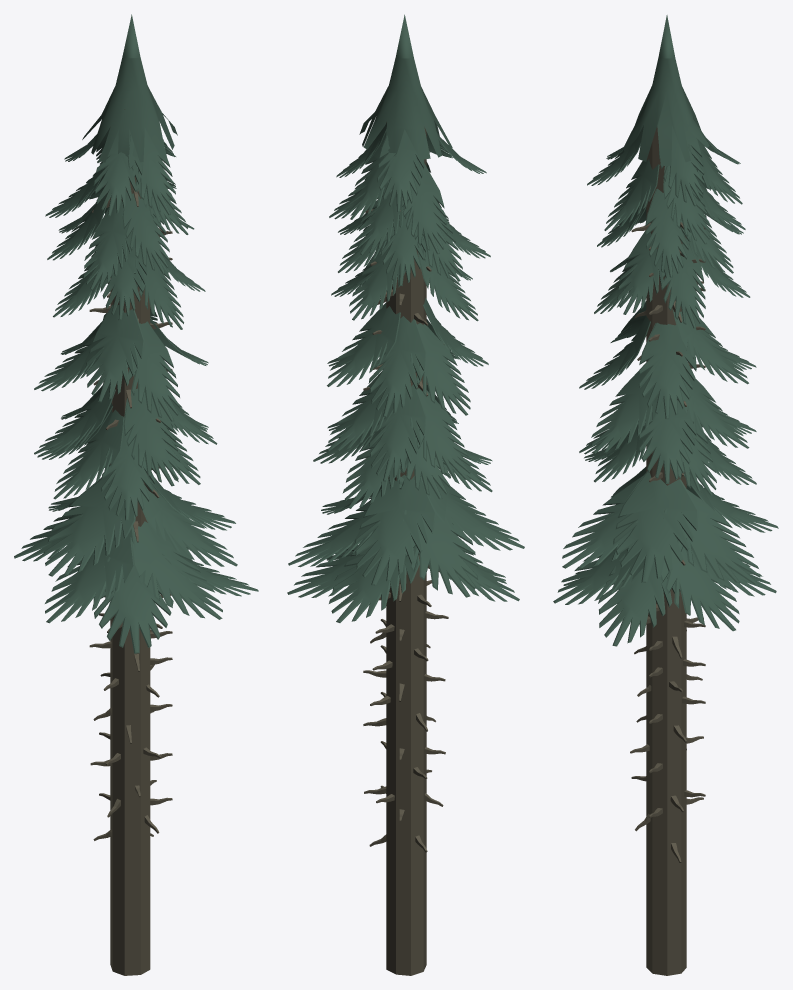
The model's file is Small_PineTree.fbx.
The picture shows the model from 3 angles, left to right: view 1: azimuth 30°, elevation 25°; view 2: azimuth 150°, elevation 25°; view 3: azimuth 270°, elevation 25°; orthographic projection.
Visible parts, largest first — view 1: polySurface2162, polySurface2133; view 2: polySurface2162, polySurface2133; view 3: polySurface2162, polySurface2133.
Part boxes in pixels (x1,y1,x2,y2): polySurface2162: (14, 14, 258, 653); polySurface2133: (89, 109, 172, 975); polySurface2162: (287, 14, 524, 622); polySurface2133: (363, 122, 448, 975); polySurface2162: (553, 15, 778, 646); polySurface2133: (630, 126, 705, 975).
Bounding box in the file's own units: 14.76 × 66.32 × 14.23.
